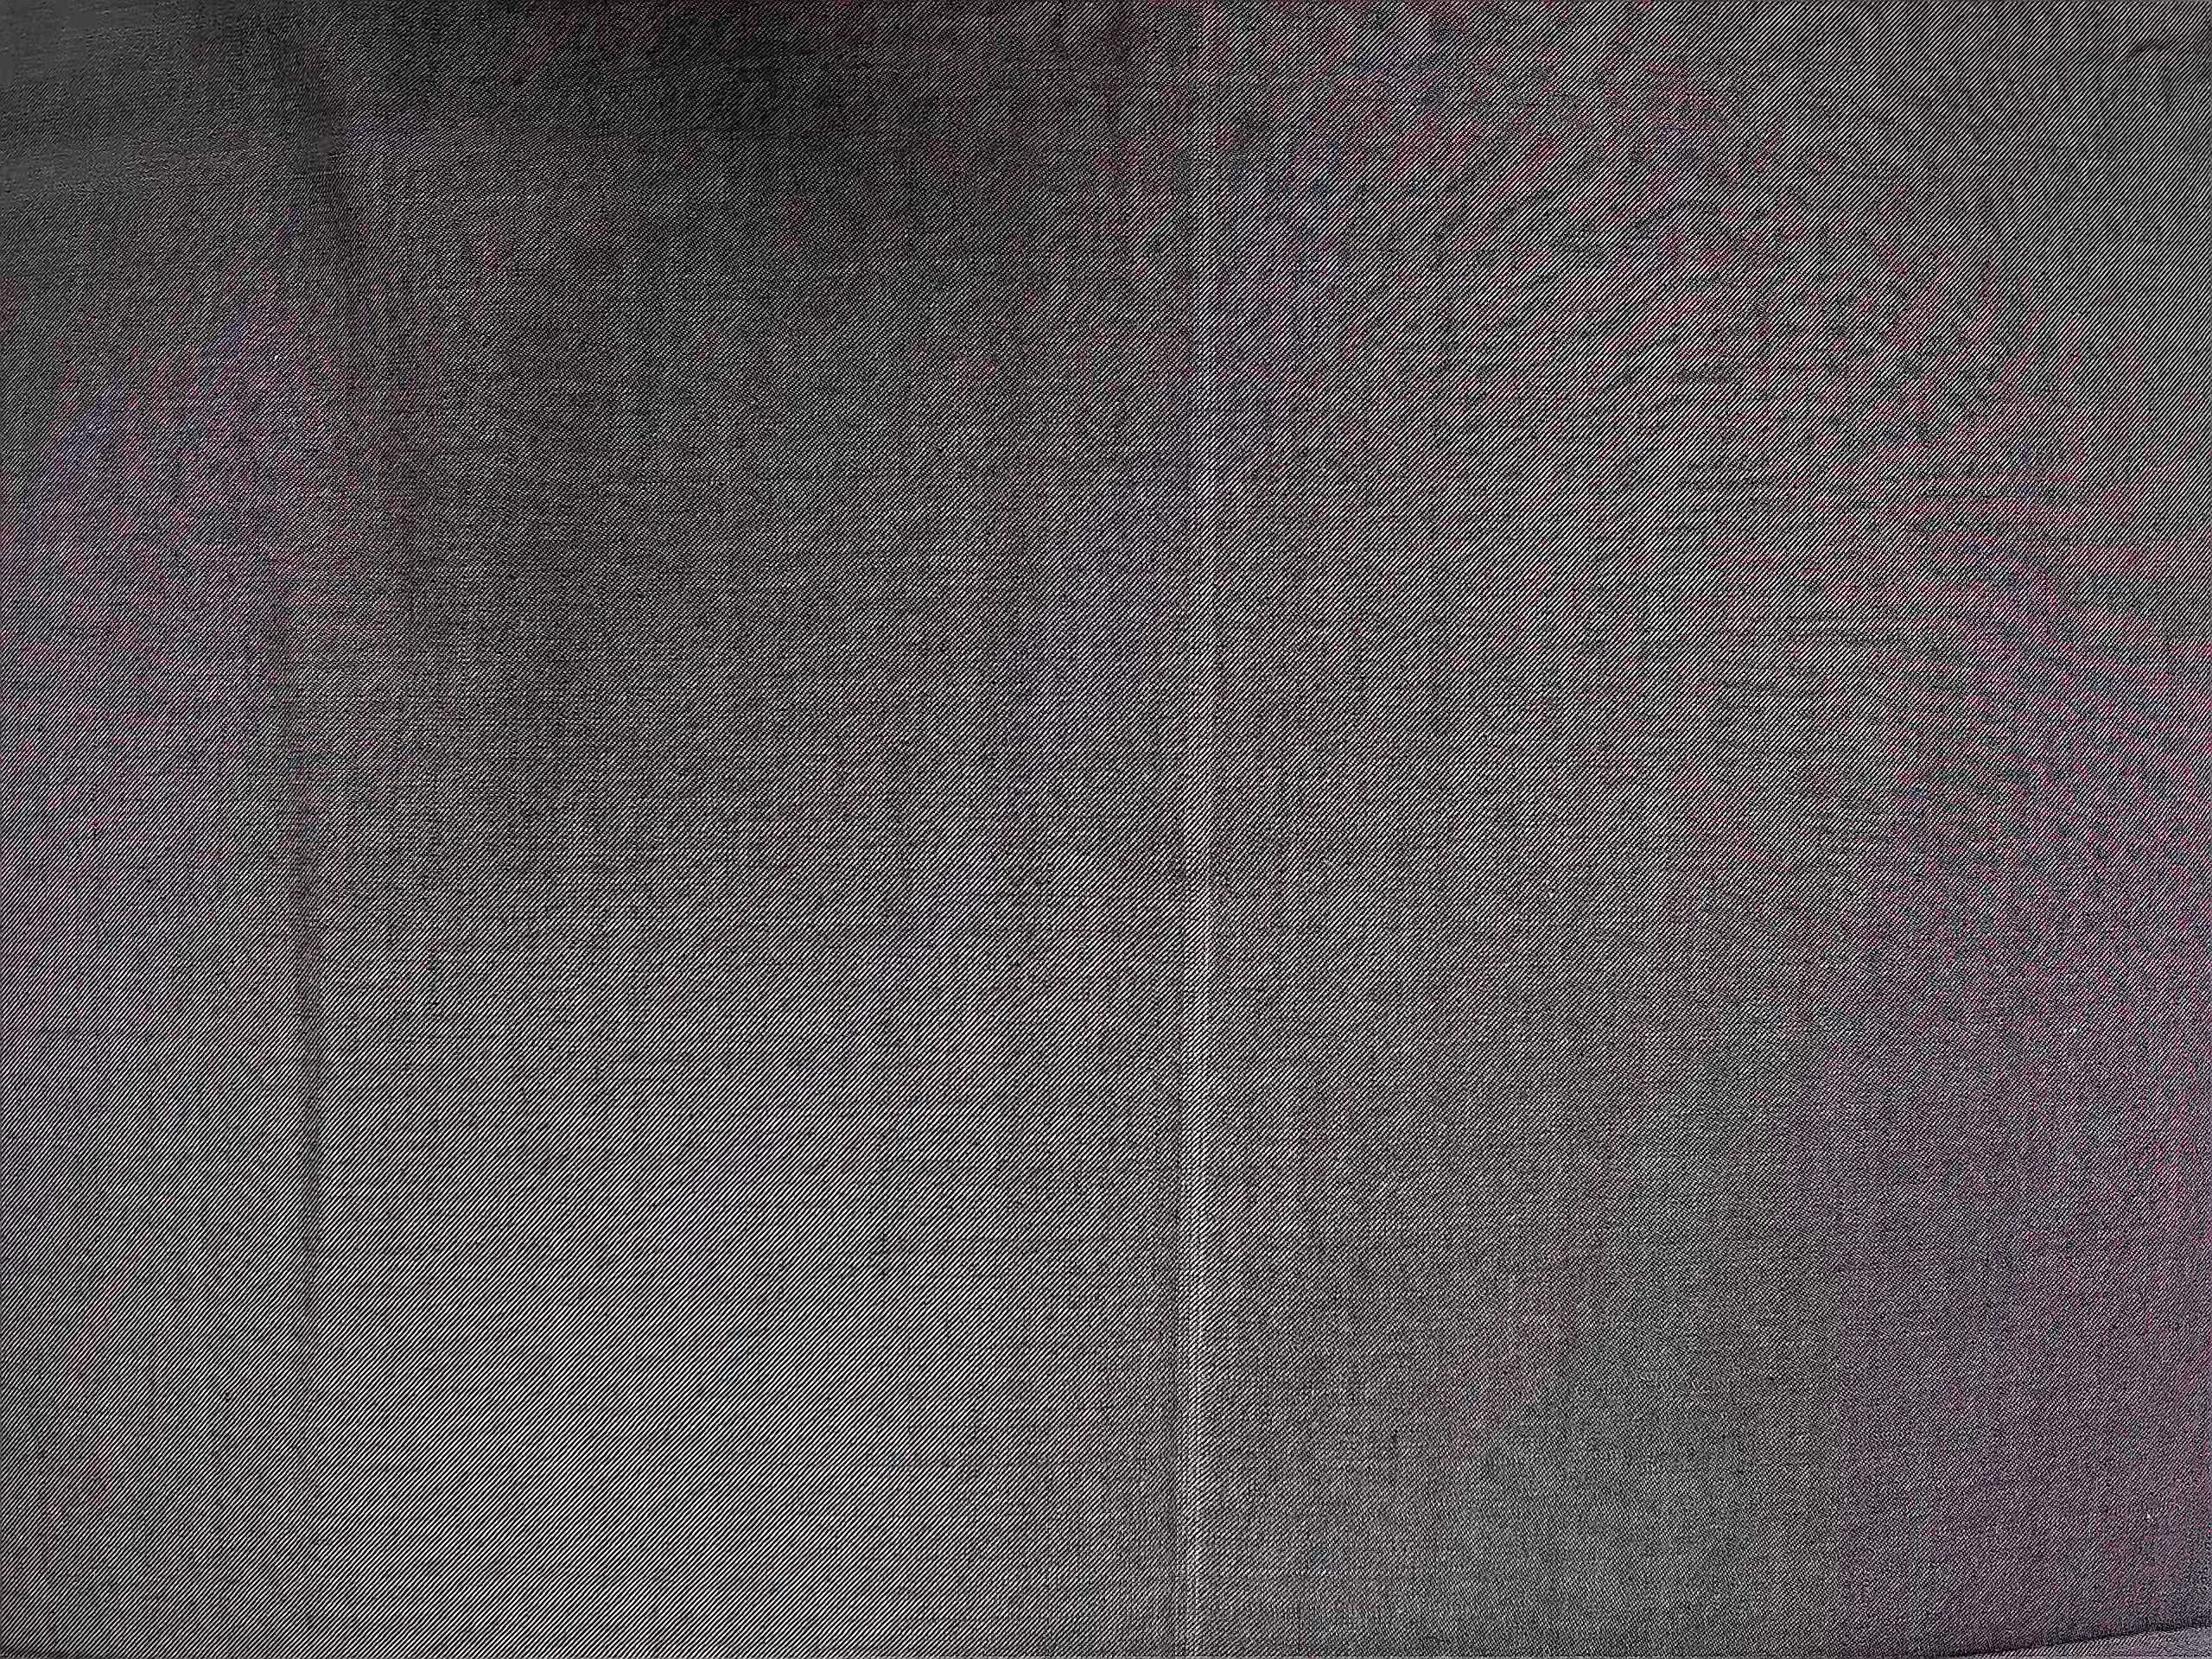hanging-warp: (1167, 10, 1231, 1649)
